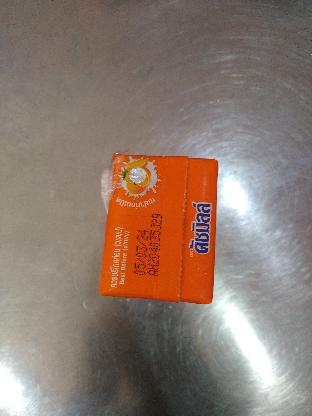Others: (95, 146, 228, 318)
